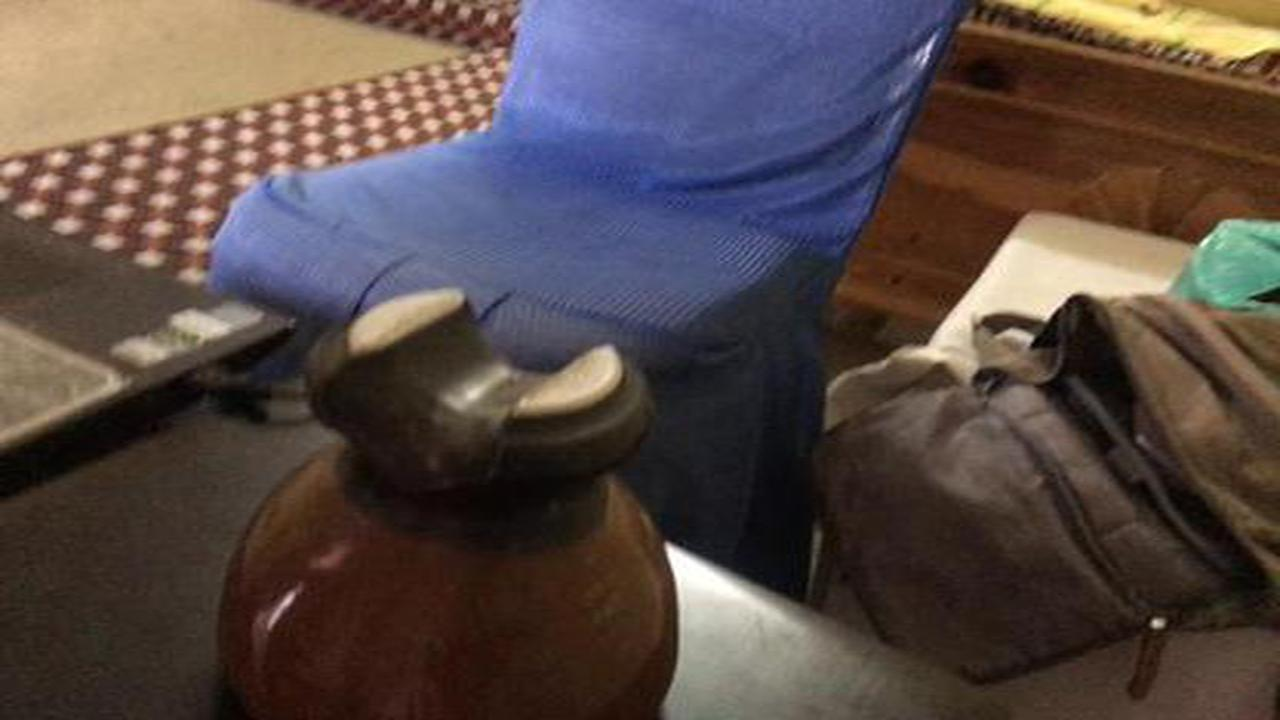insulator_pin: (200, 279, 690, 720)
